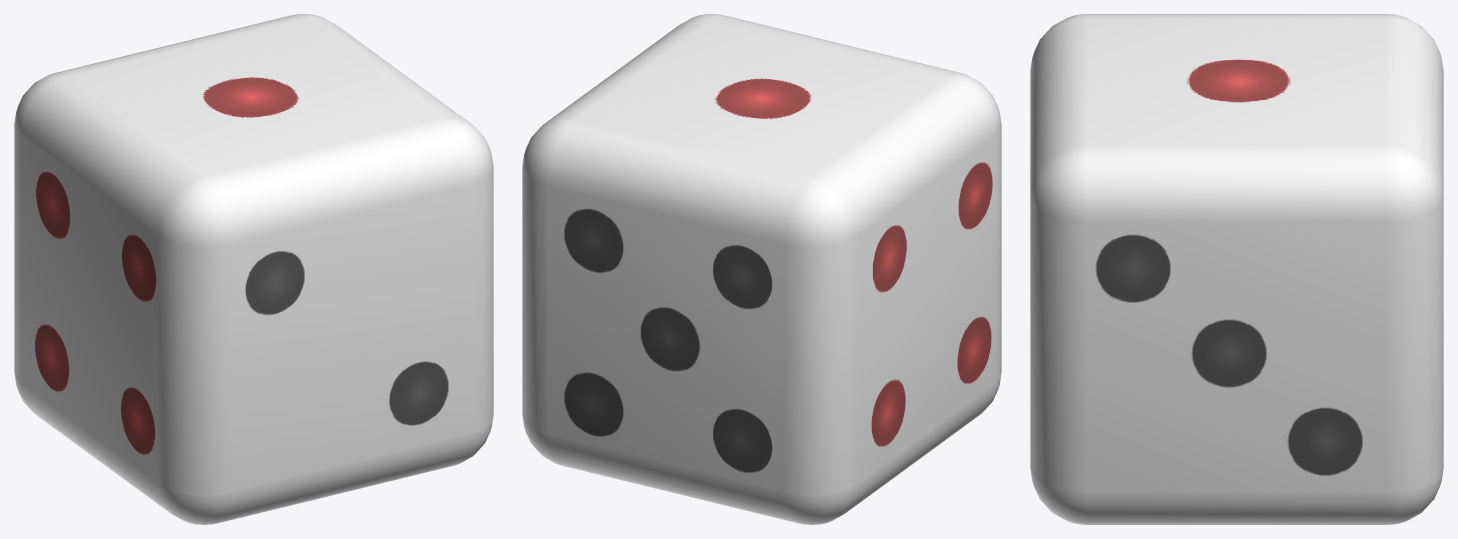
Rendered from Dice.FBX.
3 renders of one model, left to right at view 1: azimuth 30°, elevation 25°; view 2: azimuth 150°, elevation 25°; view 3: azimuth 270°, elevation 25°, orthographic. The views are drawn at different scales.
Parts seen in each view (by area): view 1: ChamferBox001; view 2: ChamferBox001; view 3: ChamferBox001.
Part boxes in pixels (x1=…): ChamferBox001: x1=14, y1=14, x2=493, y2=524; ChamferBox001: x1=522, y1=14, x2=1001, y2=524; ChamferBox001: x1=1030, y1=14, x2=1443, y2=524.
Bounding box in the file's own units: 50 × 50 × 50.
